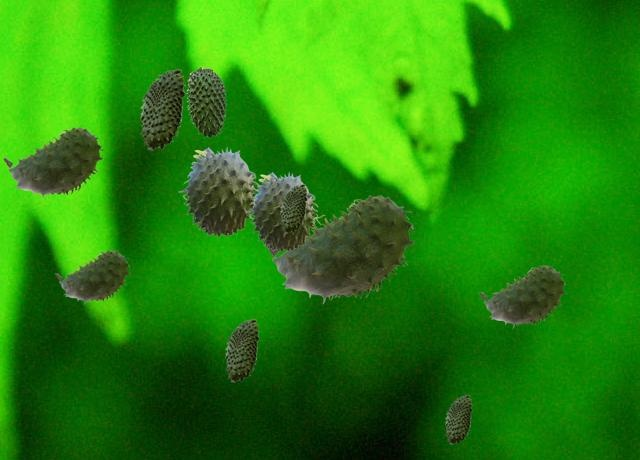guyabano: (266, 195, 414, 303), (178, 146, 258, 236), (3, 127, 102, 198), (245, 171, 324, 251), (479, 265, 565, 327), (55, 250, 129, 303), (140, 69, 184, 149), (186, 66, 226, 137), (225, 319, 258, 381), (445, 395, 471, 443), (280, 184, 306, 232)
